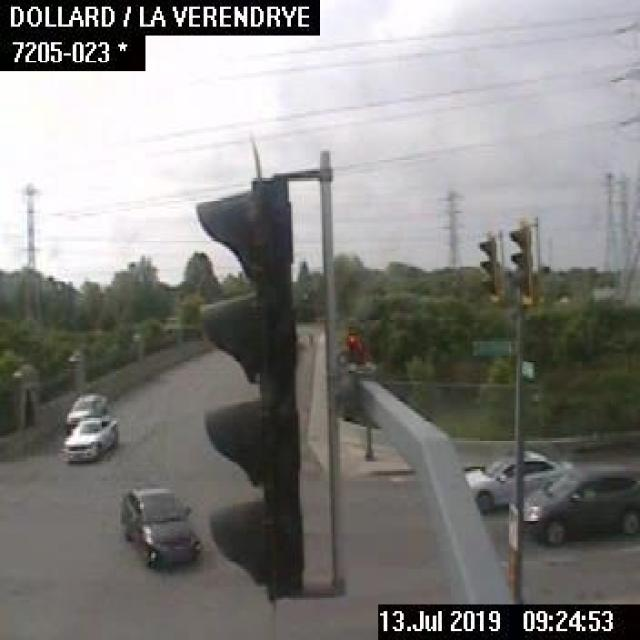vehicle: (520, 468, 638, 546), (114, 478, 204, 569), (464, 444, 570, 512), (55, 415, 120, 467), (63, 394, 109, 431)
